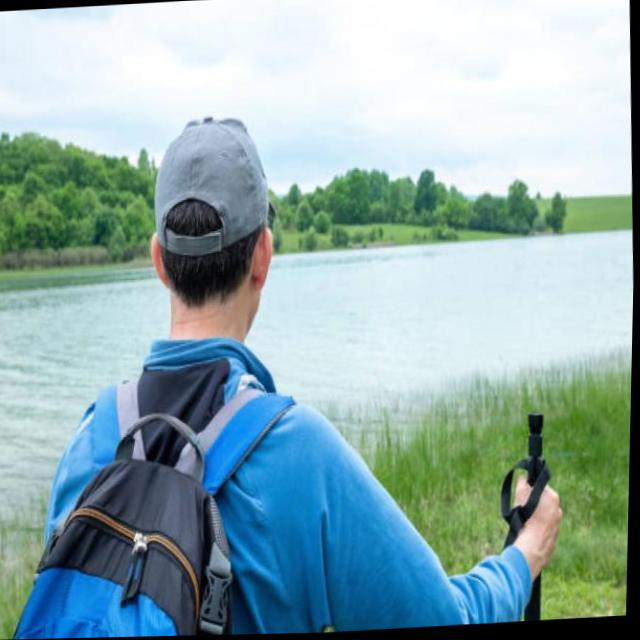no helmet: (138, 88, 286, 386)
